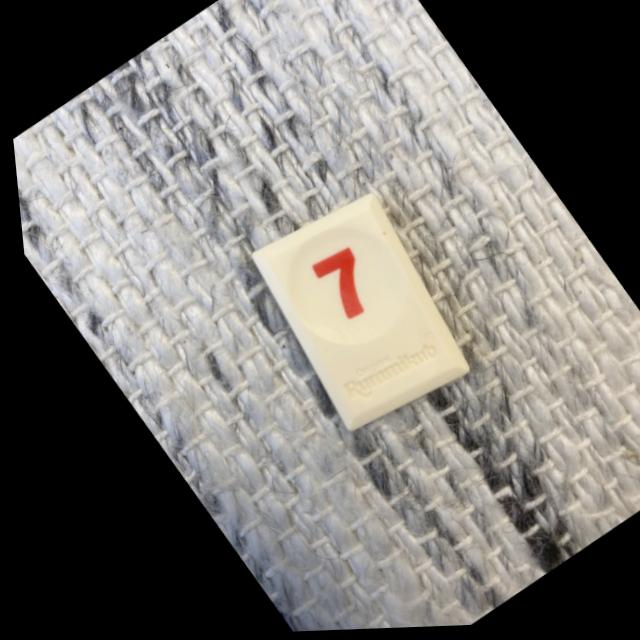red_7: (248, 197, 461, 433)
